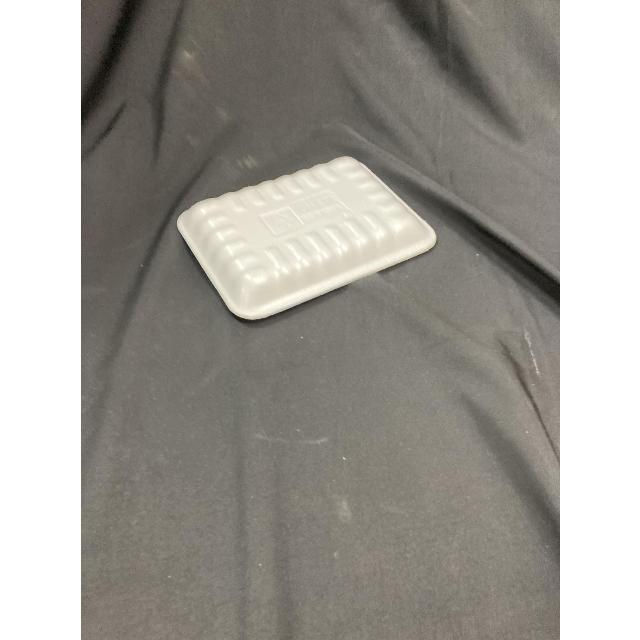Plastico descartable: (176, 157, 437, 323)
